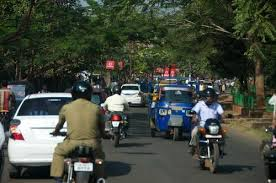helmet: (201, 88, 217, 107)
